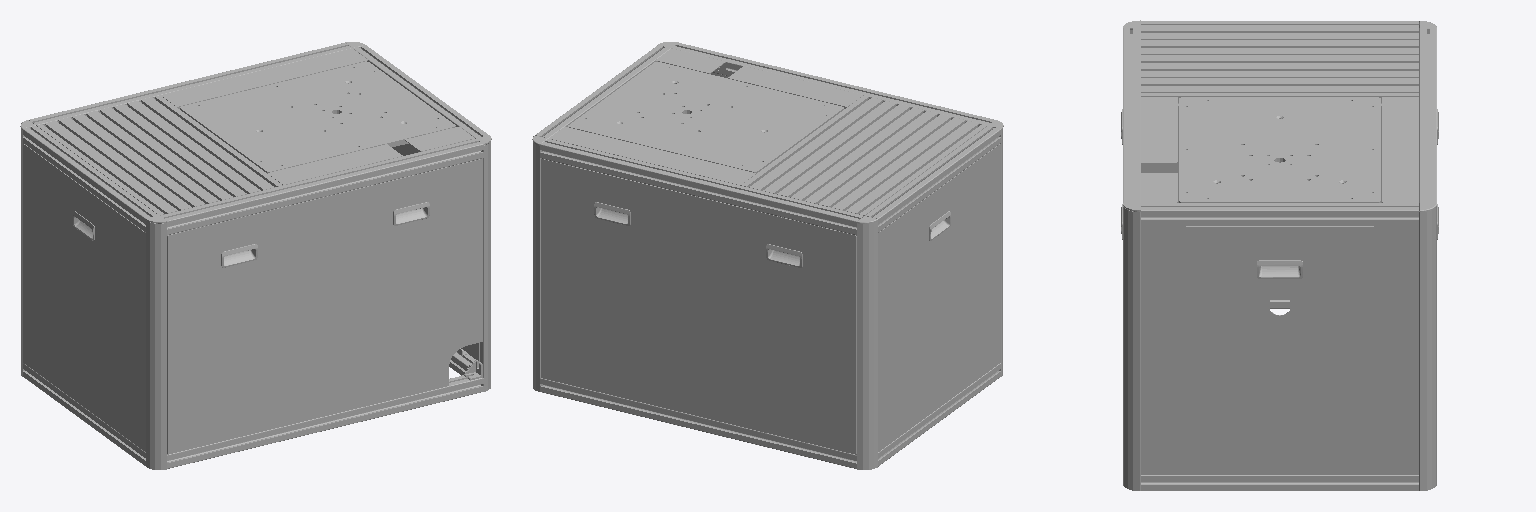
The robot description file, URDF, robot "TM_FANUC_BASE":
<?xml version="1.0" encoding="utf-8"?>
<!-- This URDF was automatically created by SolidWorks to URDF Exporter! Originally created by [author] ([email redacted]) 
     Commit Version: 1.6.0-4-g7f85cfe  Build Version: 1.6.7995.38578
     For more information, please see http://wiki.ros.org/sw_urdf_exporter -->
<robot
  name="TM_FANUC_BASE">
  <link
    name="base_link">
    <inertial>
      <origin
        xyz="-0.0216349968386468 0.837049847281741 -0.000621796854663875"
        rpy="0 0 0" />
      <mass
        value="15.6445809988323" />
      <inertia
        ixx="1.82798149420973"
        ixy="0.041709473171783"
        ixz="0.00380015577232911"
        iyy="2.69047316465091"
        iyz="-0.00238910484886091"
        izz="2.72672812134187" />
    </inertial>
    <visual>
      <origin
        xyz="0 0 0"
        rpy="0 0 0" />
      <geometry>
        <mesh
          filename="package://TM_FANUC_BASE/meshes/base_link.STL" />
      </geometry>
      <material
        name="">
        <color
          rgba="0.752941176470588 0.752941176470588 0.752941176470588 1" />
      </material>
    </visual>
    <collision>
      <origin
        xyz="0 0 0"
        rpy="0 0 0" />
      <geometry>
        <mesh
          filename="package://TM_FANUC_BASE/meshes/base_link.STL" />
      </geometry>
    </collision>
  </link>
</robot>

--- What the picture shows (computed from the rendered views, not written in the file) ---
3 views of the same robot in one strip: view 1: azimuth 30°, elevation 25°; view 2: azimuth 150°, elevation 25°; view 3: azimuth 270°, elevation 25° (orthographic).
Robot: TM_FANUC_BASE — 1 links, 0 joints (none); root link base_link; default pose: every joint at zero.
Links seen in each view (by area): view 1: base_link; view 2: base_link; view 3: base_link.
Boxes of the visible links, <box> form: base_link: <box>20,42,491,469</box>; base_link: <box>532,42,1003,469</box>; base_link: <box>1121,20,1438,490</box>.
Bounding box of the posed robot: 1.01 × 0.7066 × 0.69 m (x, y, z).
1 mesh visuals loaded from 1 distinct referenced files (1 binary STL).